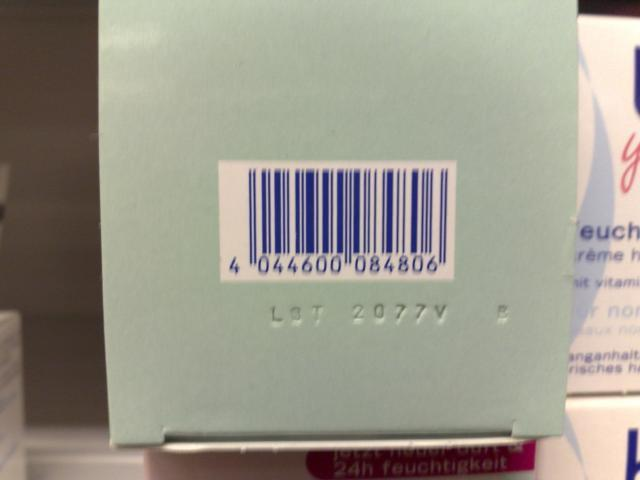Barcode: (219, 160, 457, 282)
